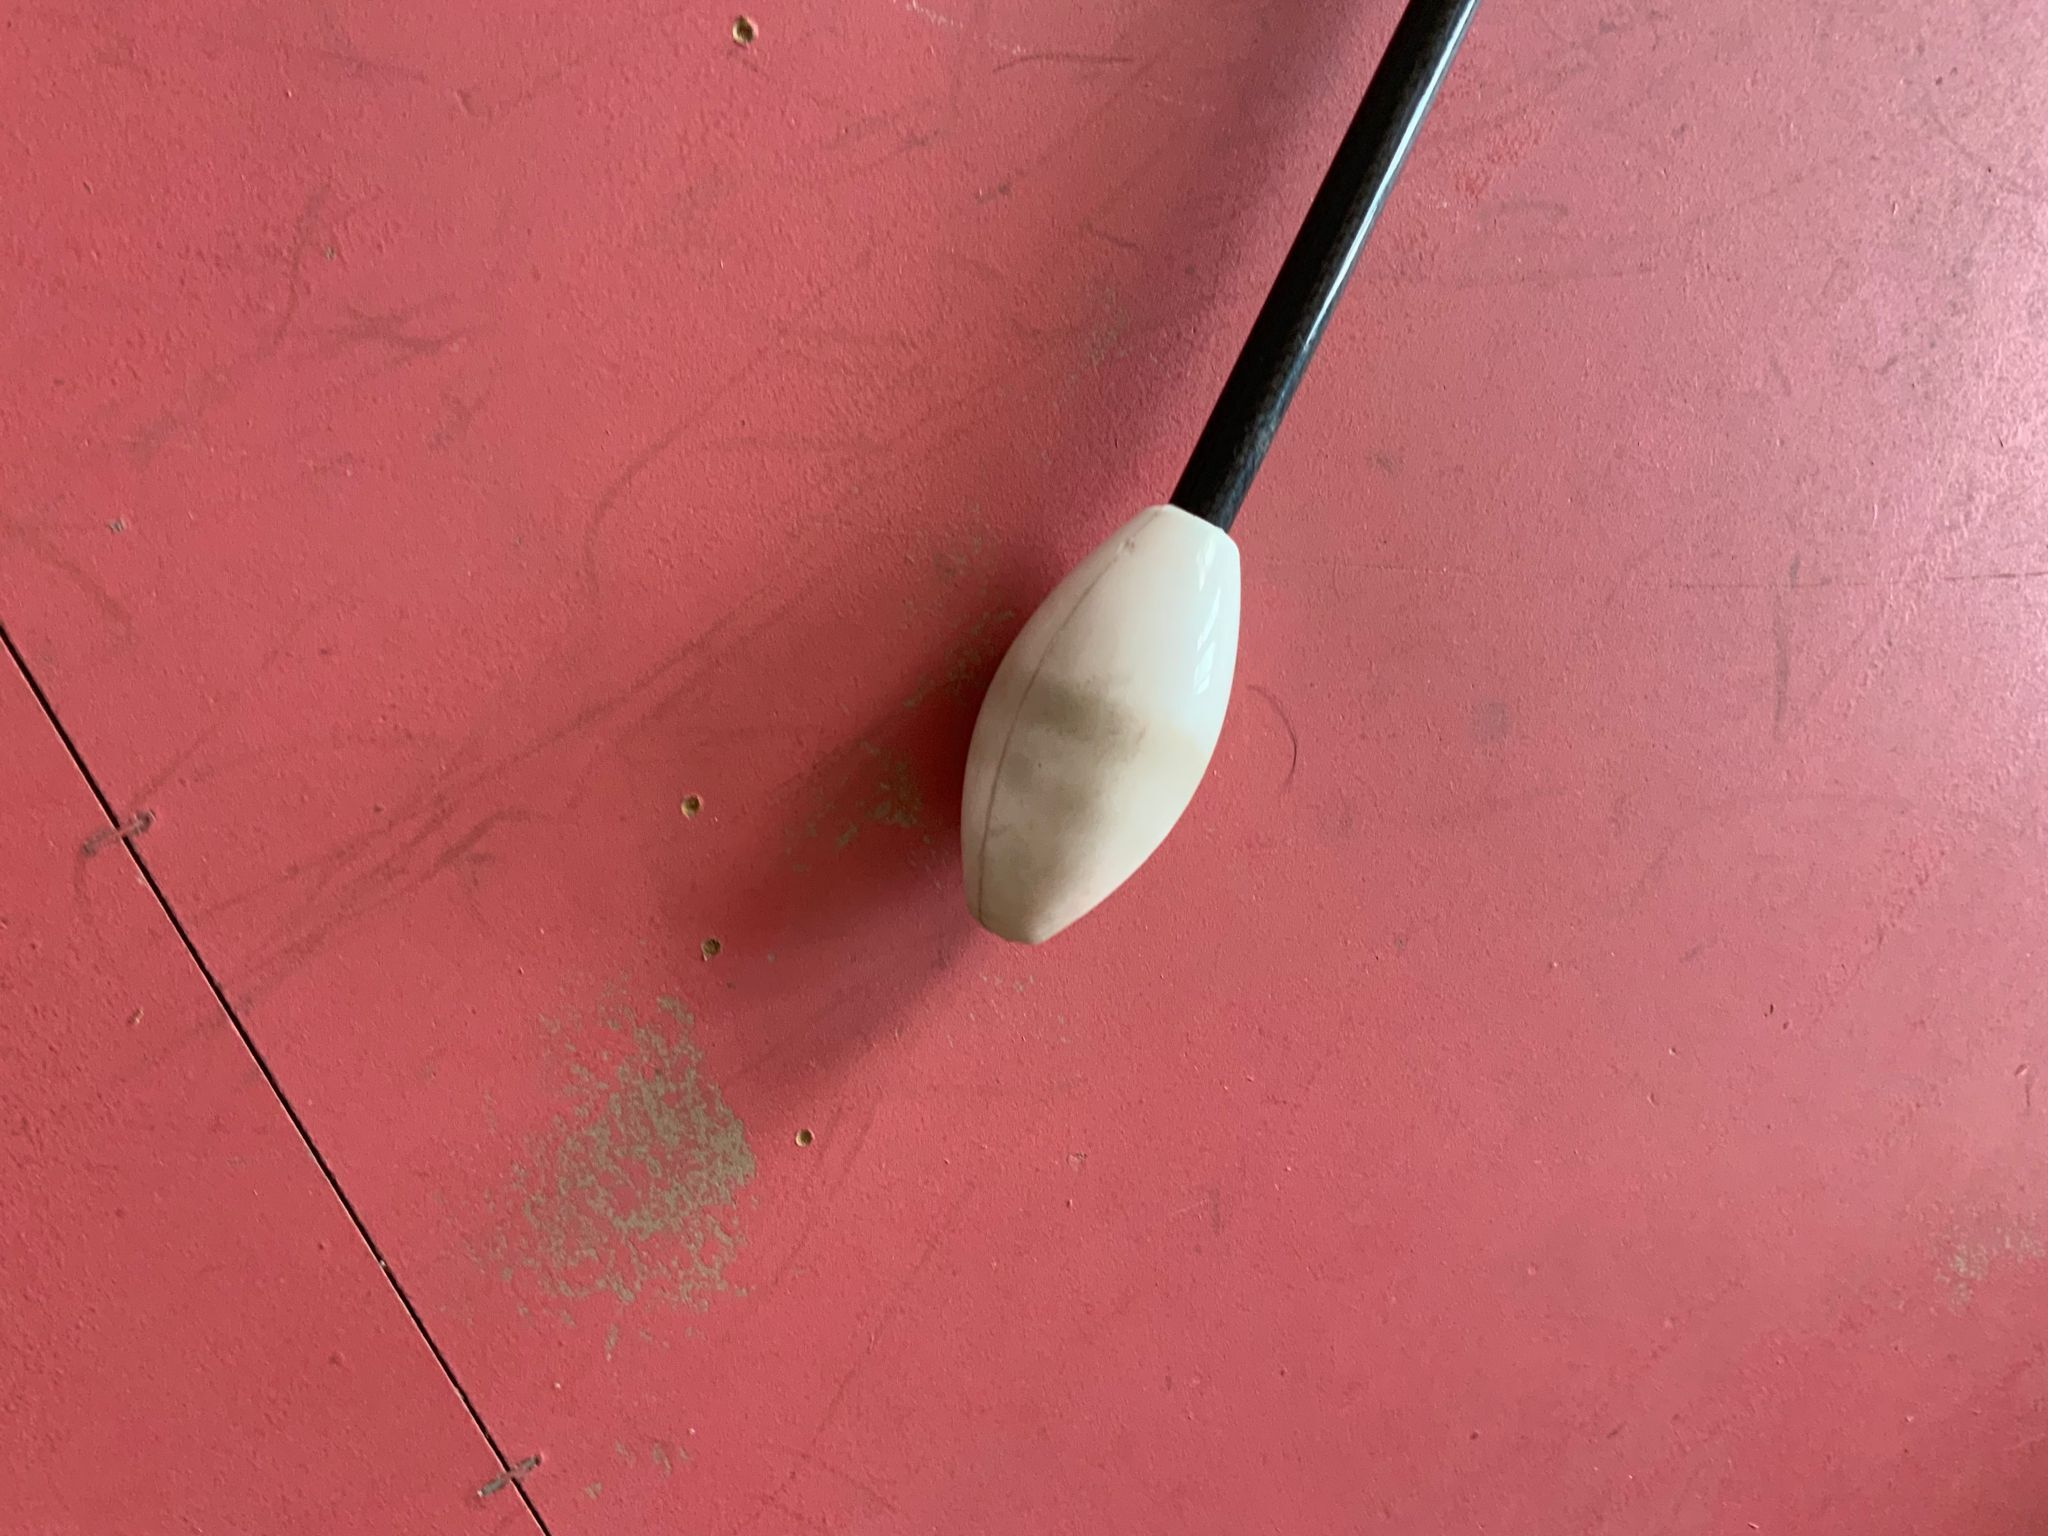arrowFront: (955, 500, 1243, 945)
